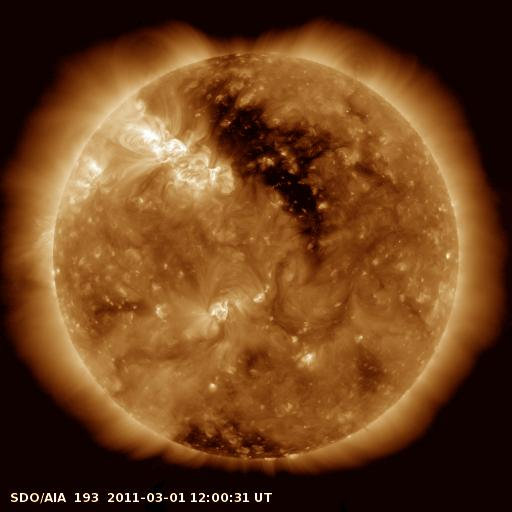coronal_hole: (195, 53, 349, 249), (172, 417, 291, 469)
